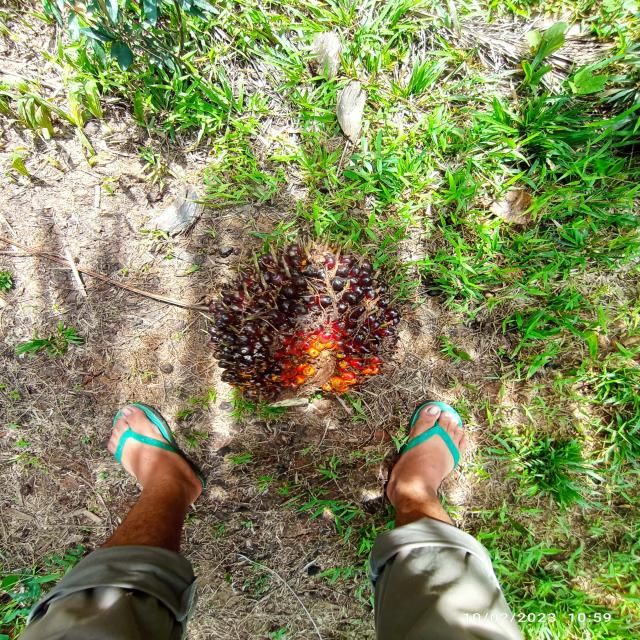fraksi 1: (187, 224, 416, 420)
